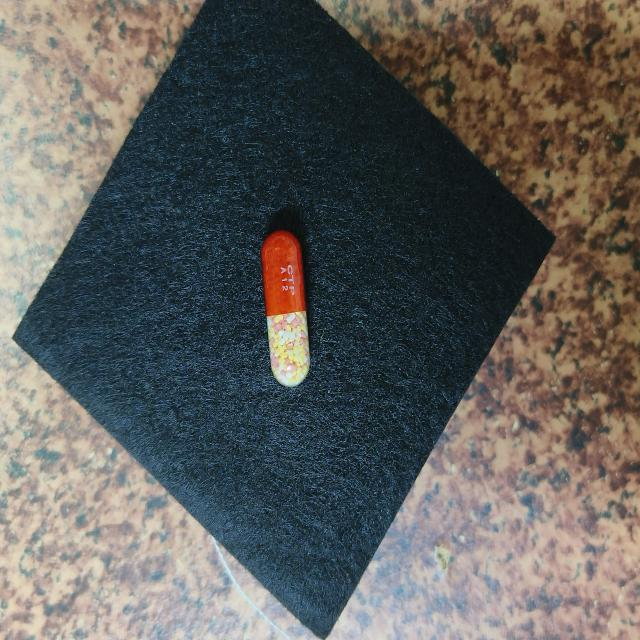Intact Capsule: (261, 230, 310, 387)
